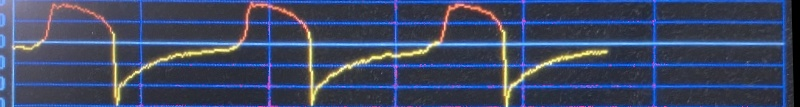normal_flow: (10, 0, 620, 107)
